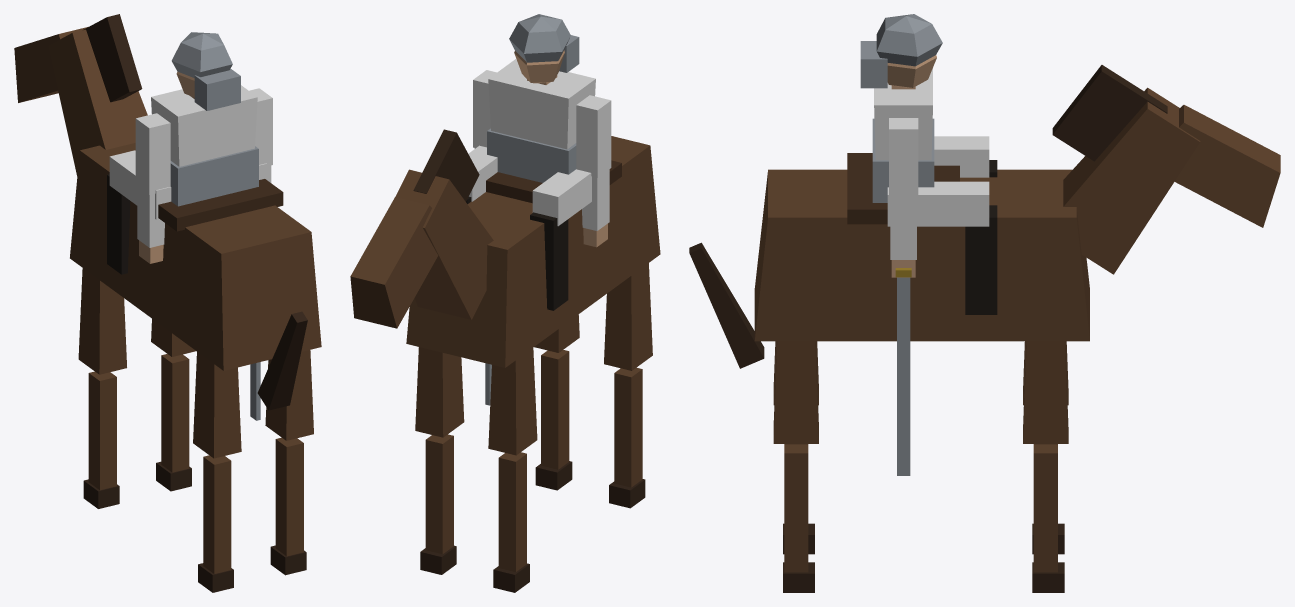
File: cavalry_em_cuirassier_lod1.glb
The picture shows the model from 3 angles, left to right: view 1: azimuth 30°, elevation 25°; view 2: azimuth 150°, elevation 25°; view 3: azimuth 270°, elevation 25°; orthographic projection. The views are drawn at different scales.
Parts seen in each view (by area): view 1: em_cuirassier_lod1_static; view 2: em_cuirassier_lod1_static; view 3: em_cuirassier_lod1_static.
Boxes of the visible parts, x1,y1,x2,y2 form: em_cuirassier_lod1_static: [14, 14, 321, 592]; em_cuirassier_lod1_static: [350, 14, 660, 592]; em_cuirassier_lod1_static: [689, 14, 1280, 592].
Size of the model in its own units: 0.59 by 2.27 by 2.2.
